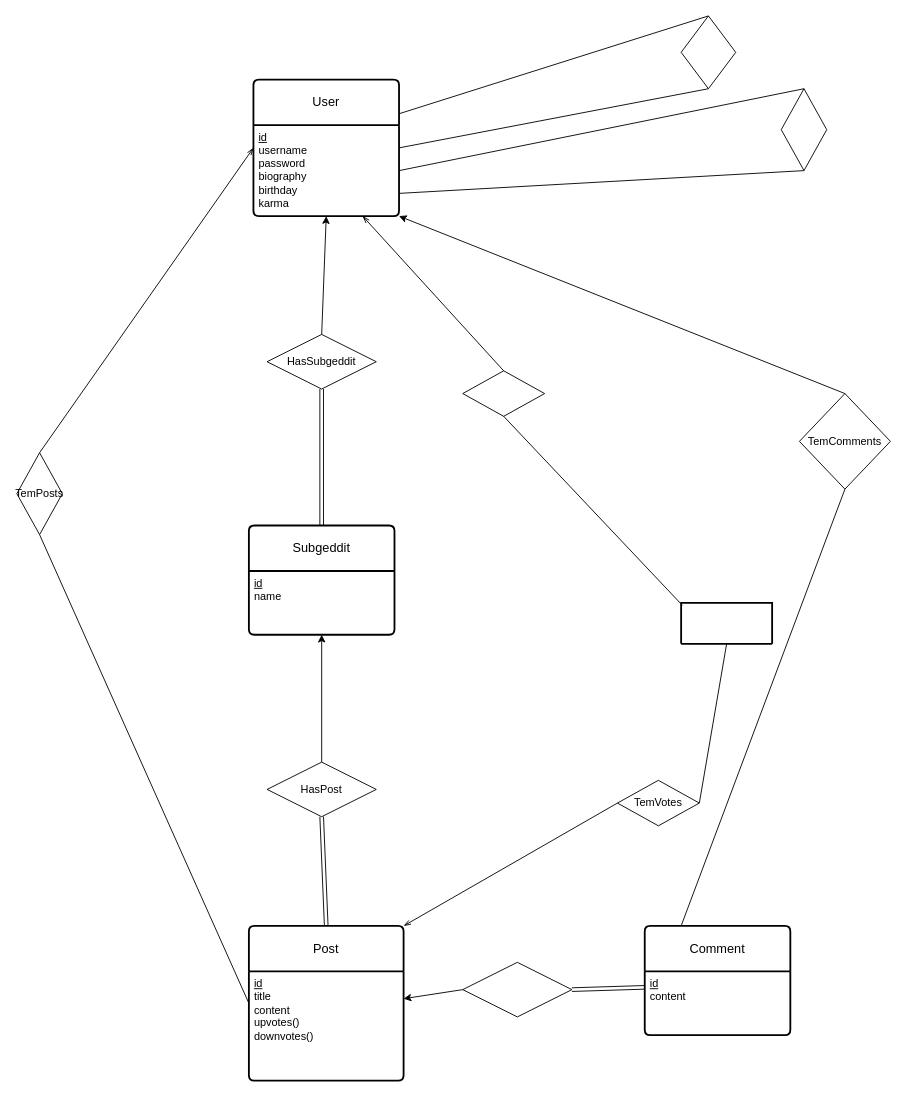
Image size: 906x1097. Some labels were removed from this diagram. The shapes that lost their labels are listed below. From the top down, each one's centre as x and y in pixels, then its label:
At (708,52): "FriendRequest".
At (803,129): "Friend".
At (503,393): "UserVotes".
At (726,623): "Vote".
At (517,989): "HasComment".
